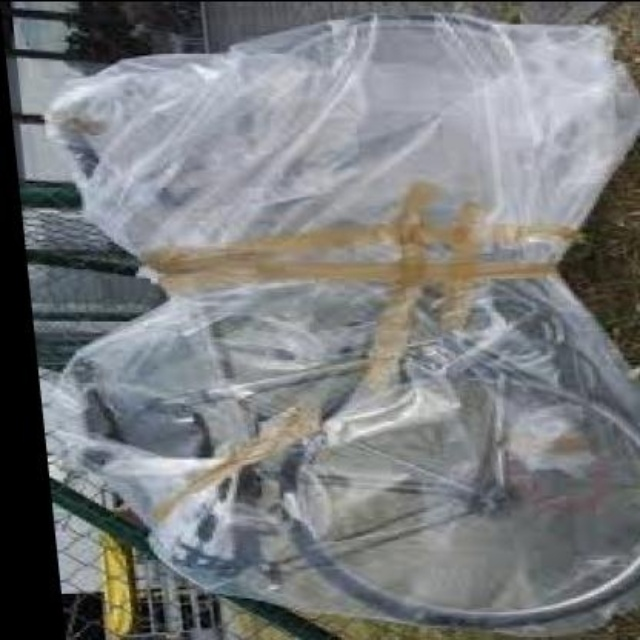trash: (43, 12, 638, 638)
